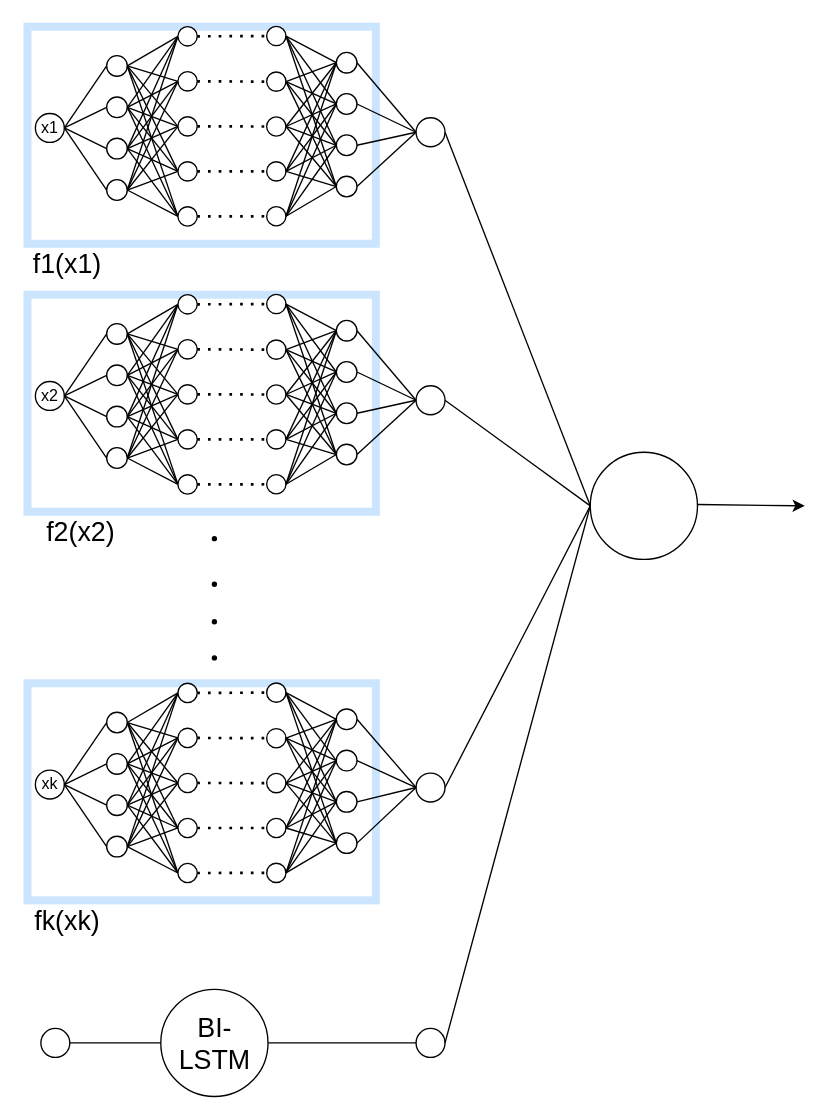
Some shapes in this 839 by 1120 pixel diagram are drawn without their labels. The shapes that lost their labels are listed below. From the top down, each one's box as (x1, y1, x2, y2) in pixels, then its label:
(589, 451, 697, 559): Sum
(40, 1027, 70, 1057): xt
